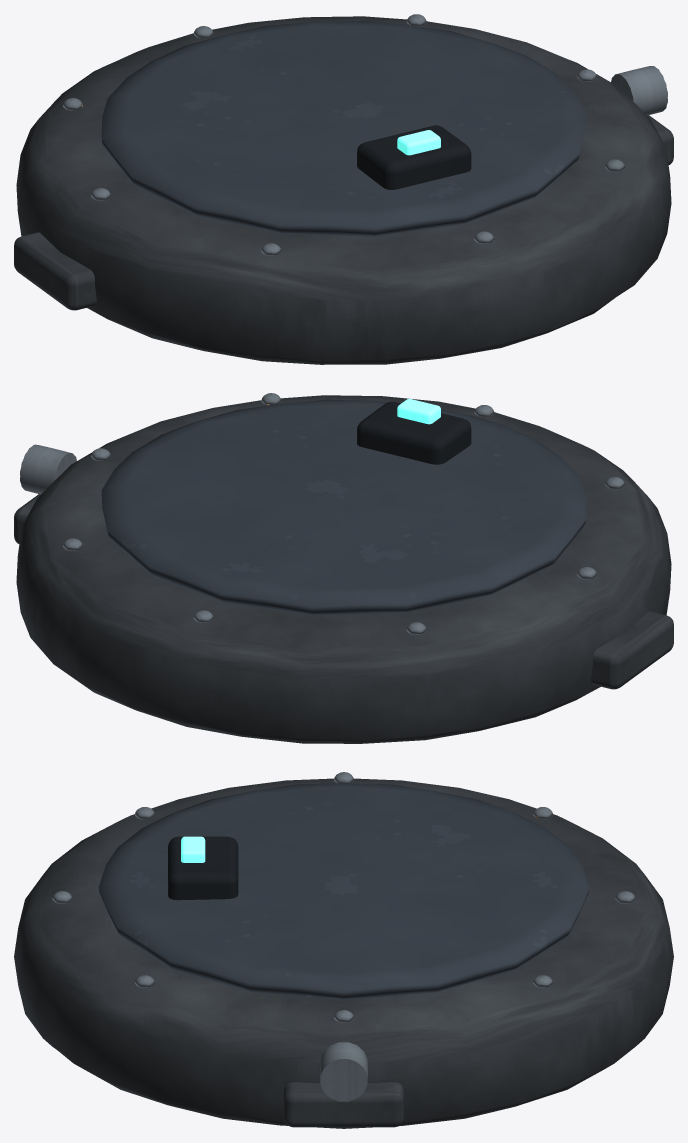
The model's file is trip-mine.lod1.glb.
The picture shows the model from 3 angles, top to bottom: view 1: azimuth 30°, elevation 25°; view 2: azimuth 150°, elevation 25°; view 3: azimuth 270°, elevation 25°; orthographic projection.
Parts seen in each view (by area): view 1: darksteel / oil-blackened fittings, ceramic / ceramic composite panel, polymer / stippled polymer, alloy / machined anodized alloy, energy / emissive field channel; view 2: darksteel / oil-blackened fittings, ceramic / ceramic composite panel, polymer / stippled polymer, alloy / machined anodized alloy, energy / emissive field channel; view 3: darksteel / oil-blackened fittings, ceramic / ceramic composite panel, alloy / machined anodized alloy, polymer / stippled polymer, energy / emissive field channel.
Boxes of the visible parts, x1=… form: darksteel / oil-blackened fittings: x1=14, y1=16, x2=673, y2=364; ceramic / ceramic composite panel: x1=101, y1=21, x2=586, y2=236; polymer / stippled polymer: x1=357, y1=125, x2=471, y2=189; alloy / machined anodized alloy: x1=63, y1=14, x2=667, y2=255; energy / emissive field channel: x1=397, y1=130, x2=440, y2=155; darksteel / oil-blackened fittings: x1=14, y1=395, x2=673, y2=743; ceramic / ceramic composite panel: x1=101, y1=399, x2=586, y2=615; polymer / stippled polymer: x1=357, y1=401, x2=471, y2=464; alloy / machined anodized alloy: x1=20, y1=393, x2=624, y2=634; energy / emissive field channel: x1=397, y1=398, x2=440, y2=424; darksteel / oil-blackened fittings: x1=14, y1=778, x2=673, y2=1128; ceramic / ceramic composite panel: x1=98, y1=783, x2=589, y2=1000; alloy / machined anodized alloy: x1=52, y1=772, x2=635, y2=1101; polymer / stippled polymer: x1=168, y1=836, x2=238, y2=900; energy / emissive field channel: x1=181, y1=836, x2=205, y2=862.
Bounding box in the file's own units: 0.355 × 0.0869 × 0.3282.
Materials: 6 (4 with a texture image).
